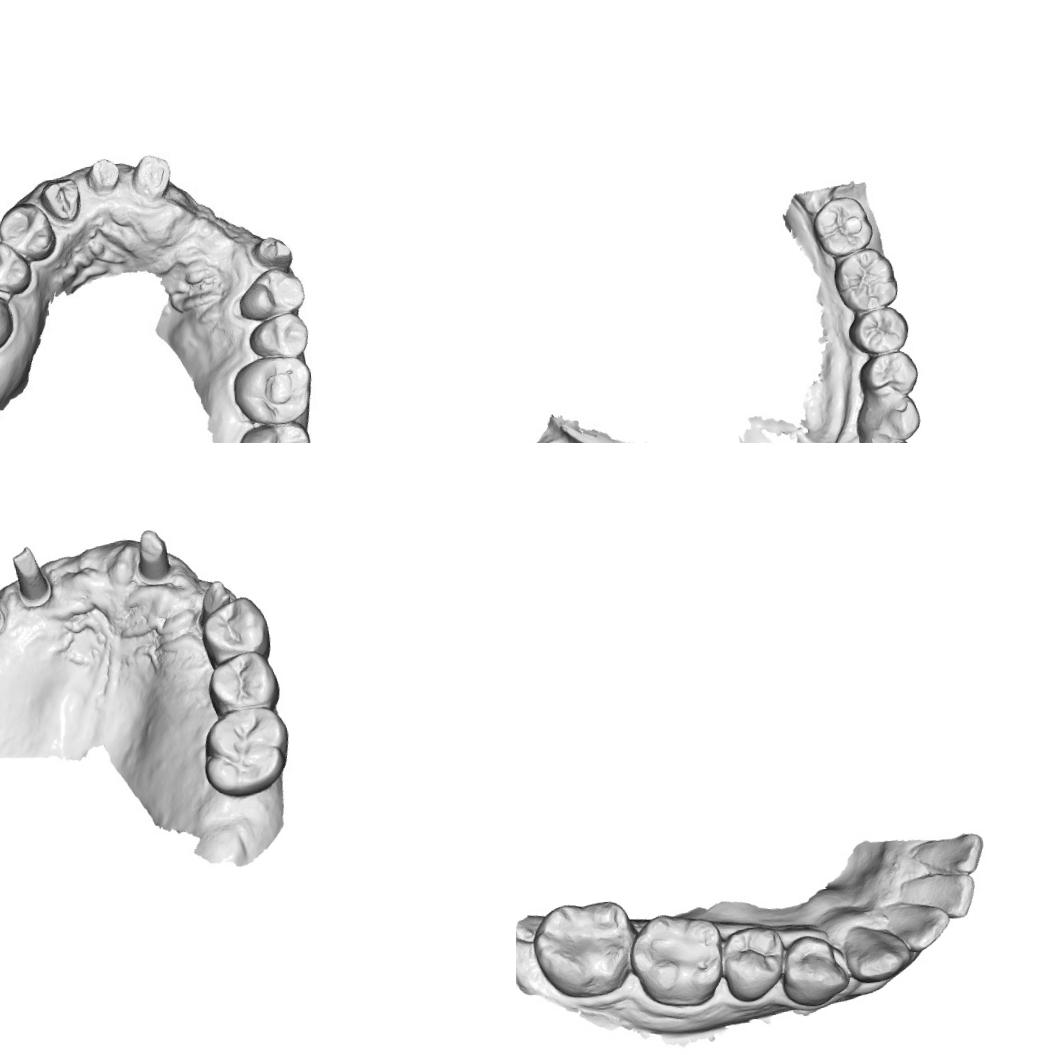abutment: (10, 543, 54, 611), (131, 526, 175, 589), (196, 576, 233, 624)
canine: (838, 917, 914, 987), (852, 390, 923, 443)
crown: (41, 168, 86, 231), (131, 155, 173, 204), (249, 228, 297, 269), (86, 156, 121, 193)
implant_minus: (0, 601, 8, 641)
incisor: (908, 828, 986, 882), (888, 896, 955, 956), (912, 867, 980, 926)
molar: (527, 896, 639, 1004), (626, 907, 730, 1011), (196, 702, 296, 802), (236, 353, 310, 427), (829, 244, 901, 315), (810, 193, 876, 259), (237, 419, 315, 443)
premolar: (713, 920, 790, 1005), (776, 930, 856, 1008), (195, 594, 272, 666), (204, 647, 282, 717), (845, 304, 911, 358), (856, 348, 921, 399), (0, 201, 57, 257), (243, 268, 302, 314), (251, 313, 305, 359), (0, 242, 26, 296)
